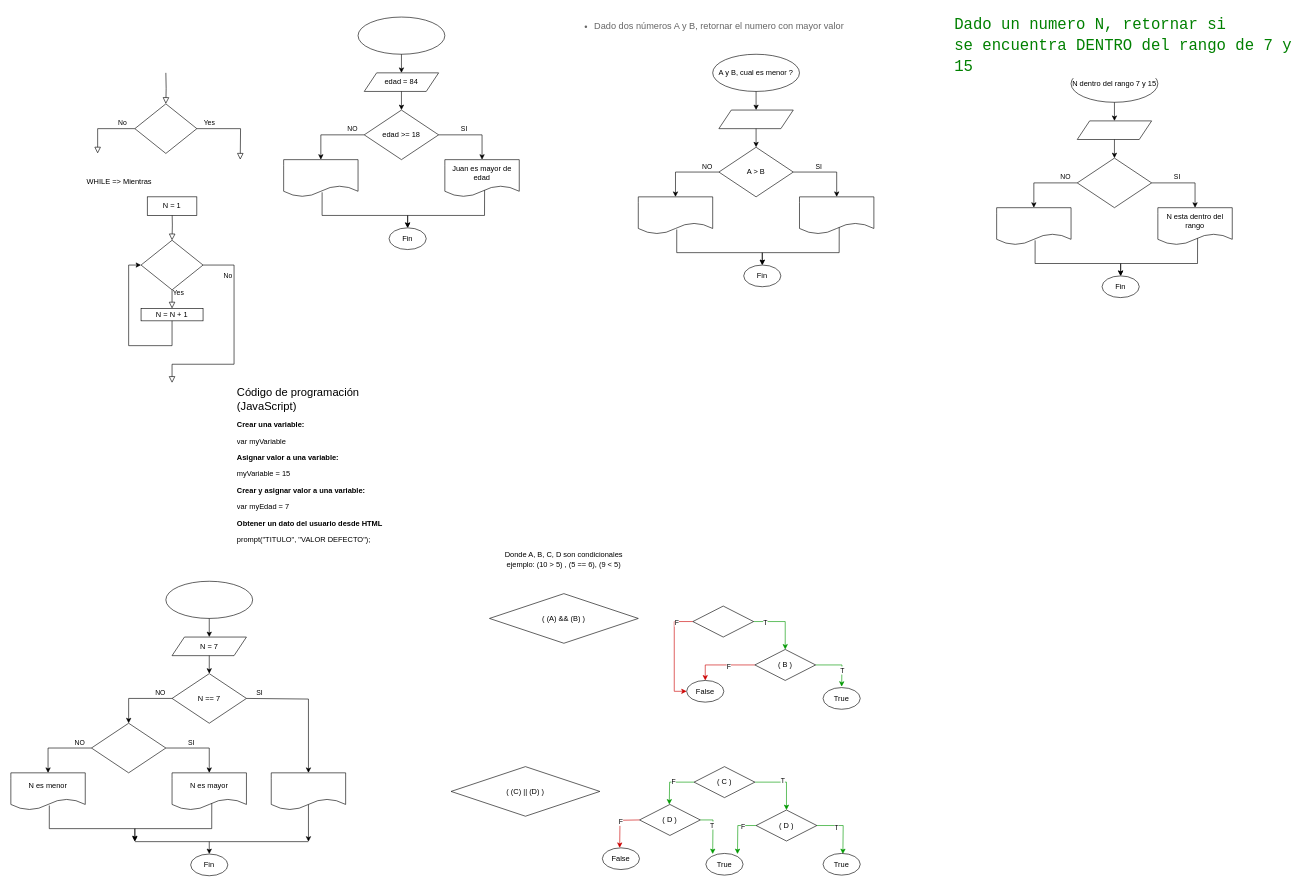
The diagram is 1311 pixels wide and 887 high, and some of its shapes have lost their labels. Each missing label, with the centre of its shape:
"( A )" goes at point (723, 621).
"7 > N && N < 15" goes at point (1114, 182).
"A = 8 , B = 5" goes at point (755, 119).
"A es menor" goes at point (675, 215).
"B es menor" goes at point (836, 215).
"Es N mayor a 7" goes at point (209, 599).
"Juan es menor de edad" goes at point (320, 178).
"Juan Mayor Edad ?" goes at point (165, 128).
"MyPrimerAlgoritmo" goes at point (401, 35).
"N <= 5" goes at point (171, 265).
"N = 9" goes at point (1114, 130).
"N > 7" goes at point (128, 748).
"N es igual" goes at point (308, 791).
"N esta fuera del rango" goes at point (1033, 226).
